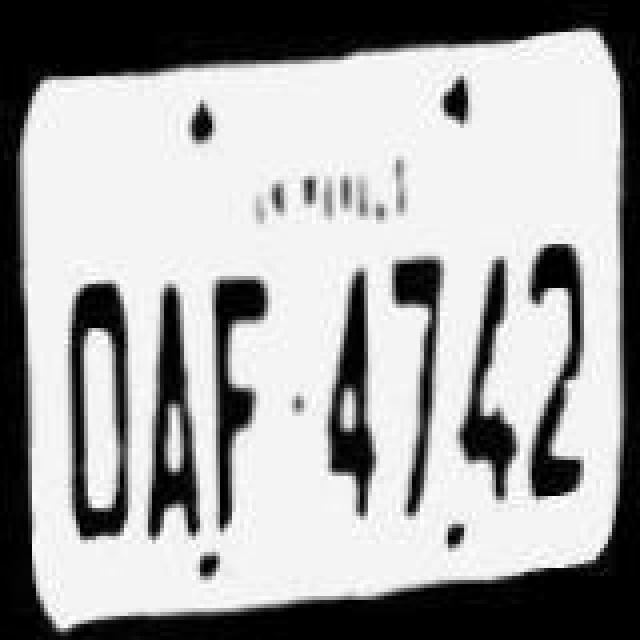2: (514, 240, 598, 520)
4: (304, 244, 384, 528), (448, 250, 520, 526)
7: (376, 238, 448, 530)
A: (138, 262, 206, 542)
F: (202, 262, 278, 530)
O: (46, 254, 138, 546)
